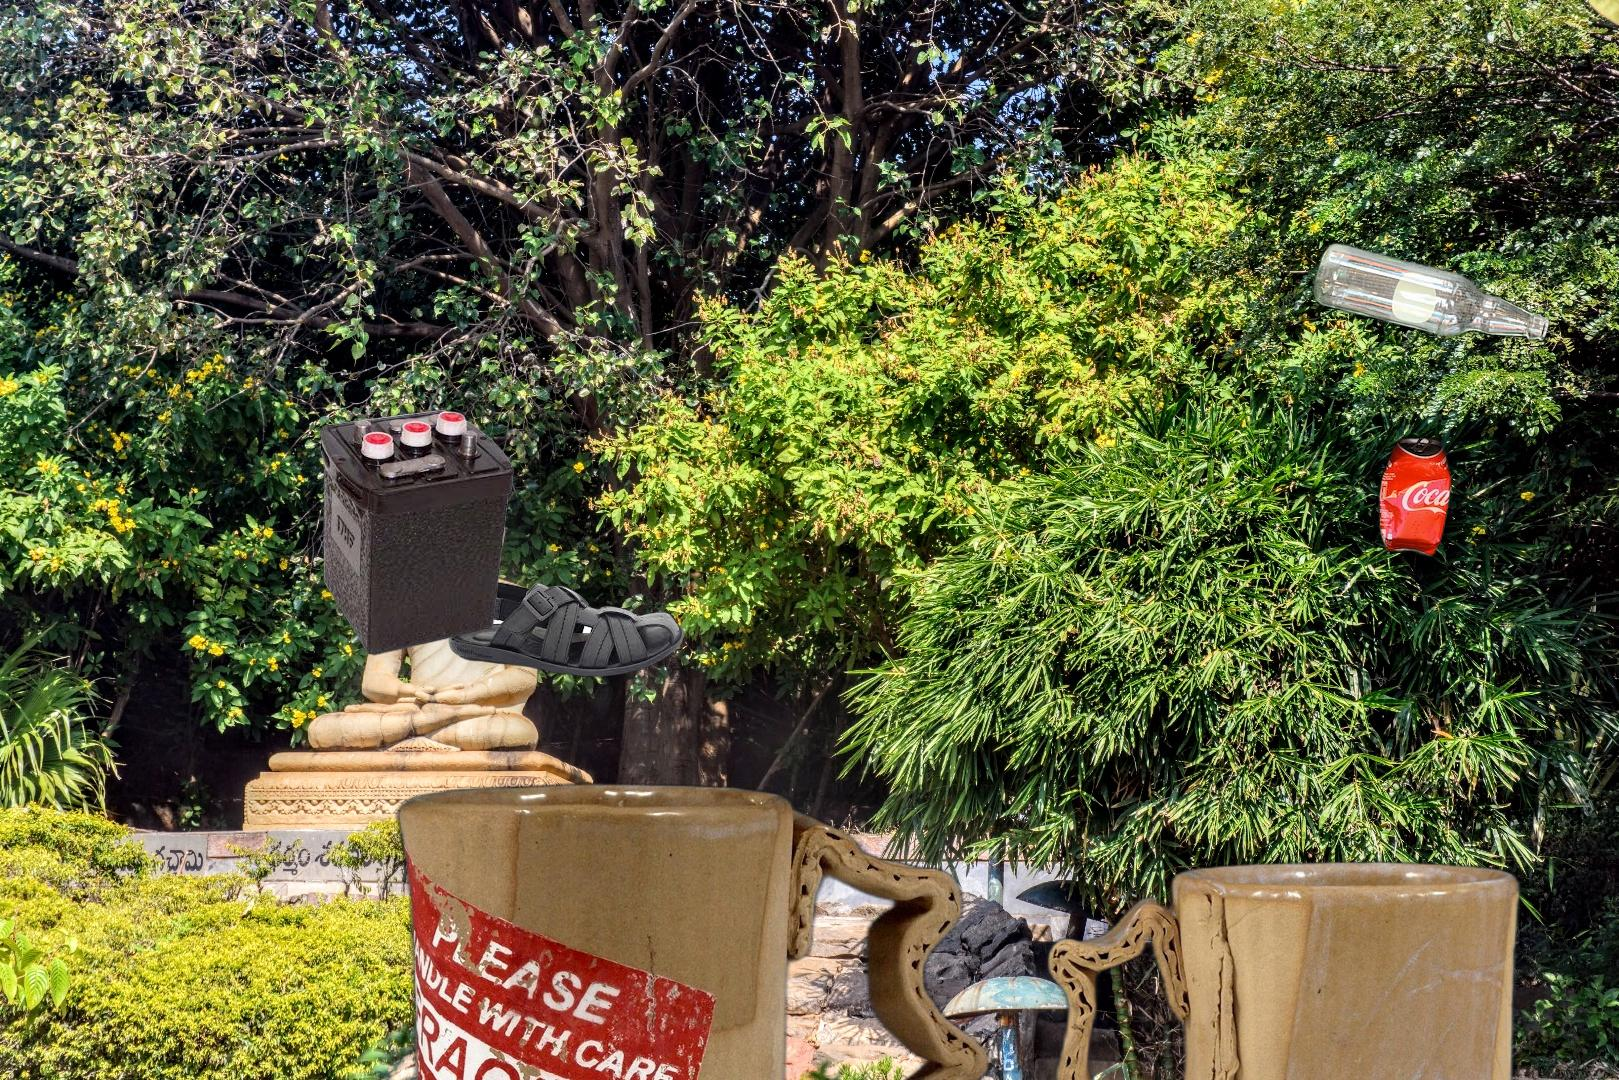battery: (317, 407, 517, 658)
glass: (1308, 236, 1554, 347)
metal-cans: (1374, 430, 1457, 563)
shoes: (446, 574, 687, 679)
trashbox-cardboard: (383, 777, 1532, 1080)
